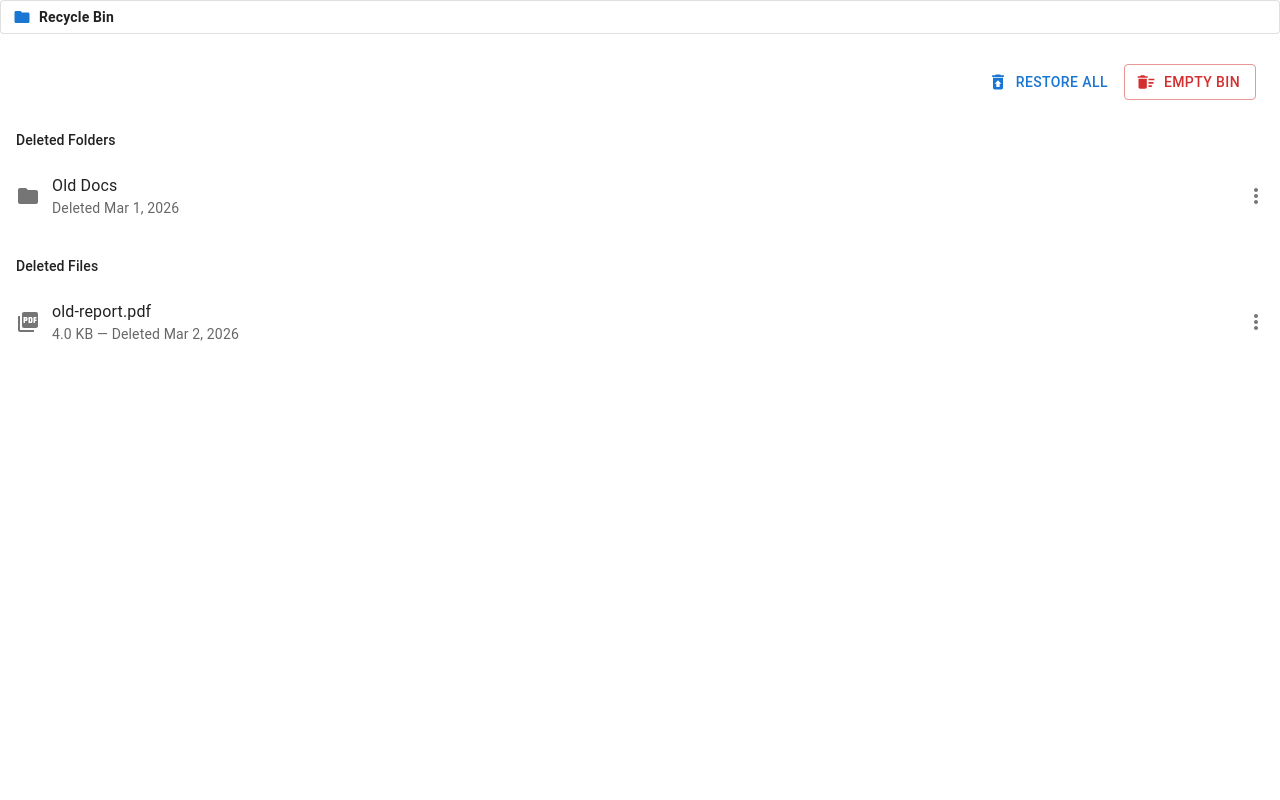
it: RecycleBinPage › shows 409 error message when restoring folder with deleted parent
Check: the text "Old Docs" is shown, box x1=52 y1=176 x2=117 y2=195
Click the button named "actions" in the row of "Old Docs" at (1256, 196), box x1=1236 y1=176 x2=1276 y2=216
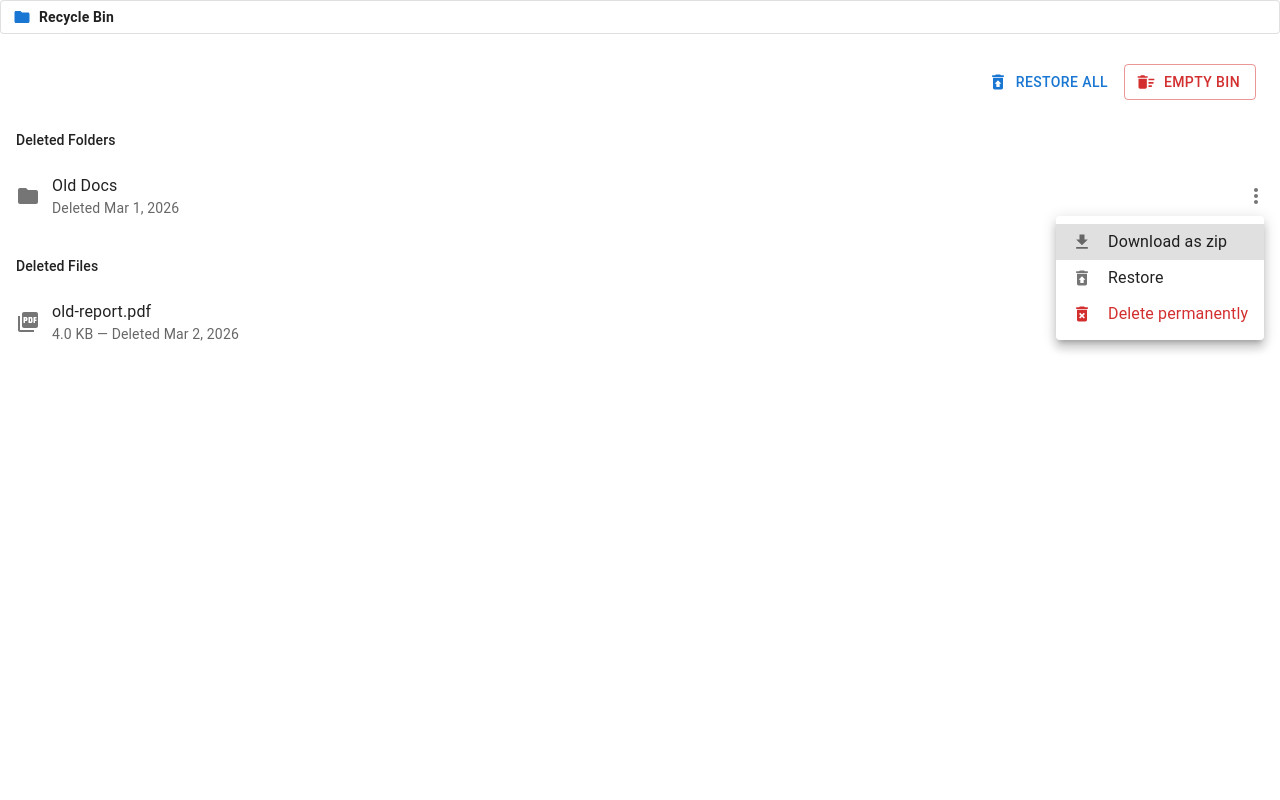
Click the menu item "Restore" at (1118, 278), box x1=1072 y1=268 x2=1164 y2=288
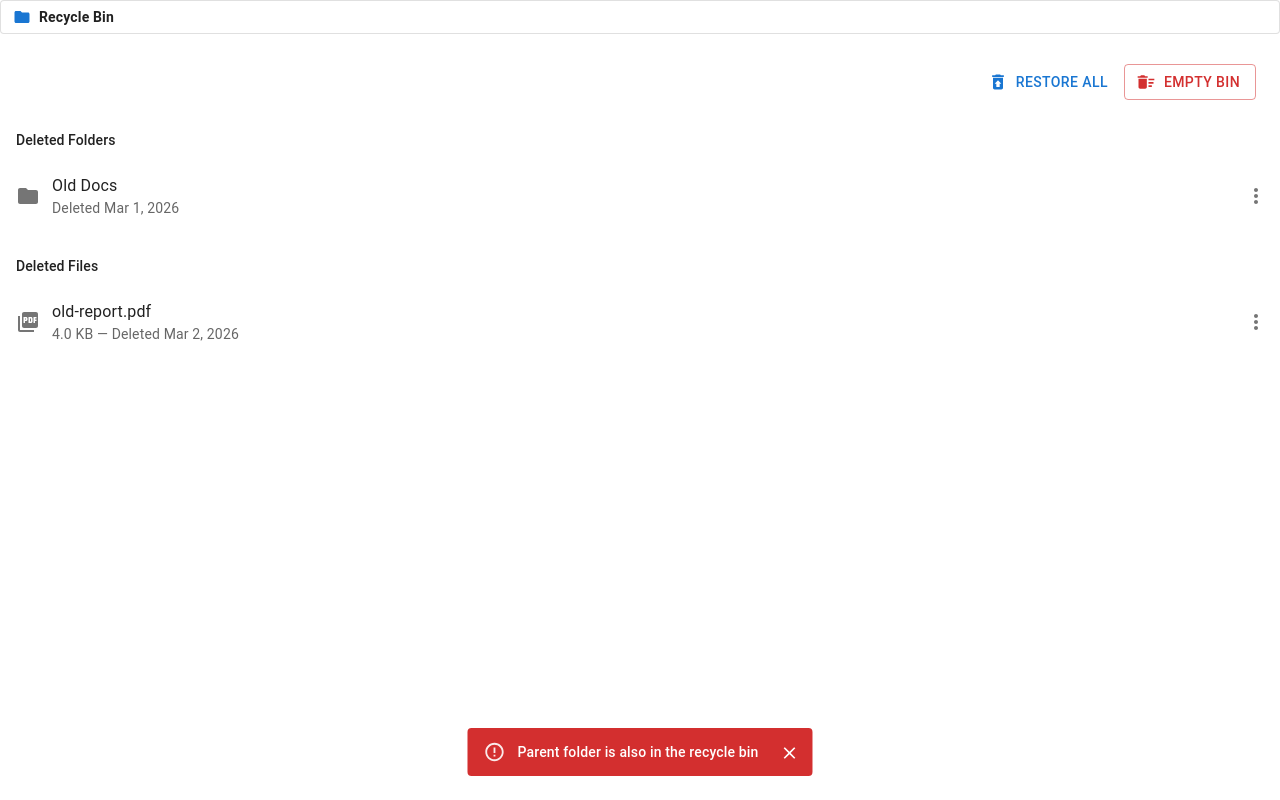
Check: the text "Parent folder is also in the recycle bin" is shown, box x1=518 y1=744 x2=758 y2=760
